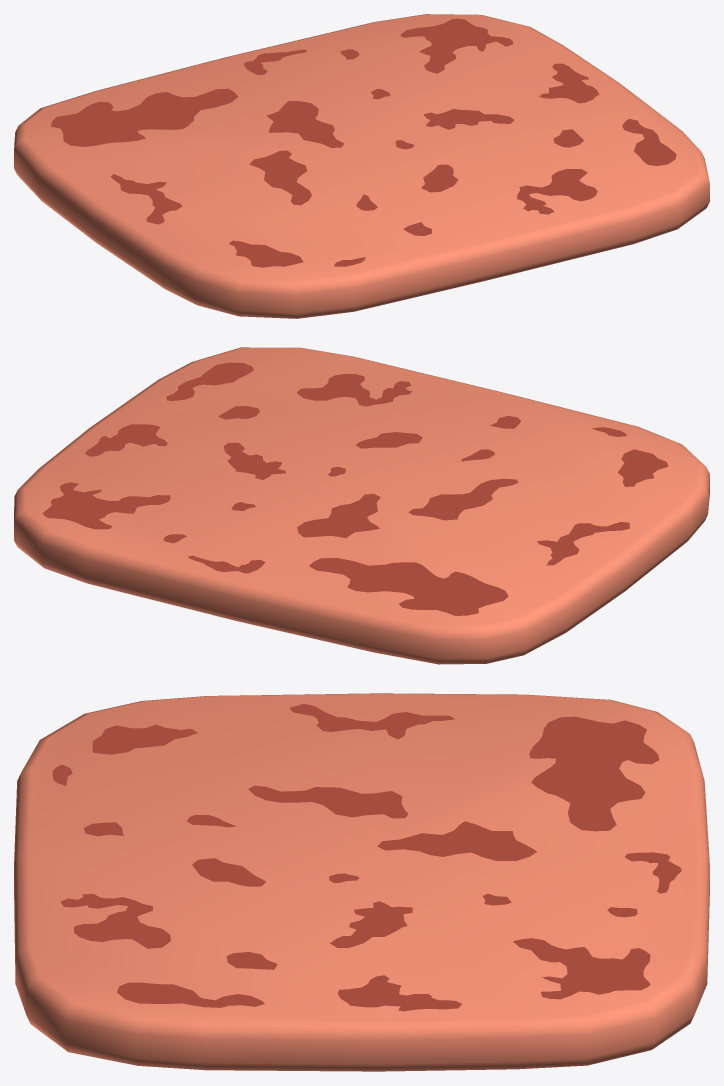
File: Ham_Hotdog.001.fbx
3 renders of one model, top to bottom at view 1: azimuth 30°, elevation 25°; view 2: azimuth 150°, elevation 25°; view 3: azimuth 270°, elevation 25°, orthographic. The views are drawn at different scales.
Parts seen in each view (by area): view 1: Ham_Hotdog.001; view 2: Ham_Hotdog.001; view 3: Ham_Hotdog.001.
Part boxes in pixels (left/top/right/bottom): Ham_Hotdog.001: left=14, top=14, right=709, bottom=318; Ham_Hotdog.001: left=14, top=347, right=709, bottom=664; Ham_Hotdog.001: left=14, top=693, right=709, bottom=1071.
Bounding box in the file's own units: 88.84 × 76.92 × 6.22.
